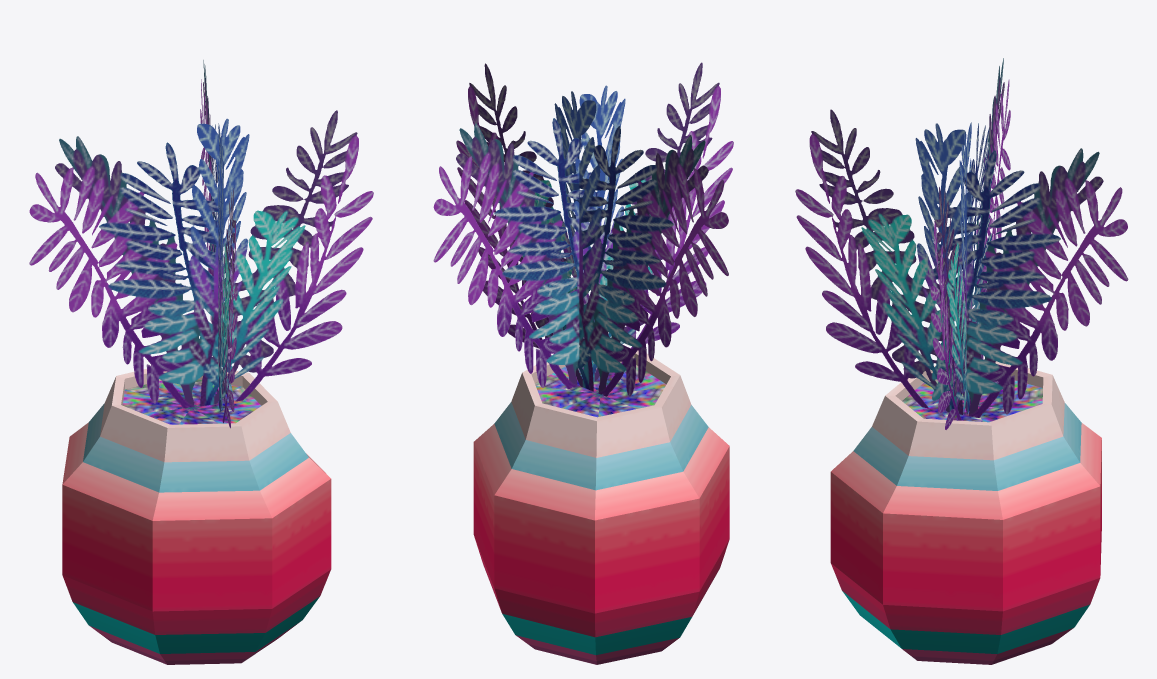
The model's file is Structure_Retro_Pot_02_Art.fbx.
3 renders of one model, left to right at view 1: azimuth 30°, elevation 25°; view 2: azimuth 150°, elevation 25°; view 3: azimuth 270°, elevation 25°, orthographic. The views are drawn at different scales.
Parts seen in each view (by area): view 1: Structure_Retro_Pot_02_Art, Structure_Retro_Pot_02_Art1; view 2: Structure_Retro_Pot_02_Art, Structure_Retro_Pot_02_Art1; view 3: Structure_Retro_Pot_02_Art, Structure_Retro_Pot_02_Art1.
Boxes of the visible parts, <box> form: Structure_Retro_Pot_02_Art: <box>29,60,373,664</box>; Structure_Retro_Pot_02_Art1: <box>29,64,373,422</box>; Structure_Retro_Pot_02_Art: <box>433,62,733,664</box>; Structure_Retro_Pot_02_Art1: <box>435,63,732,395</box>; Structure_Retro_Pot_02_Art: <box>795,58,1128,664</box>; Structure_Retro_Pot_02_Art1: <box>795,65,1127,424</box>.
Bounding box in the file's own units: 159 × 243 × 148.
